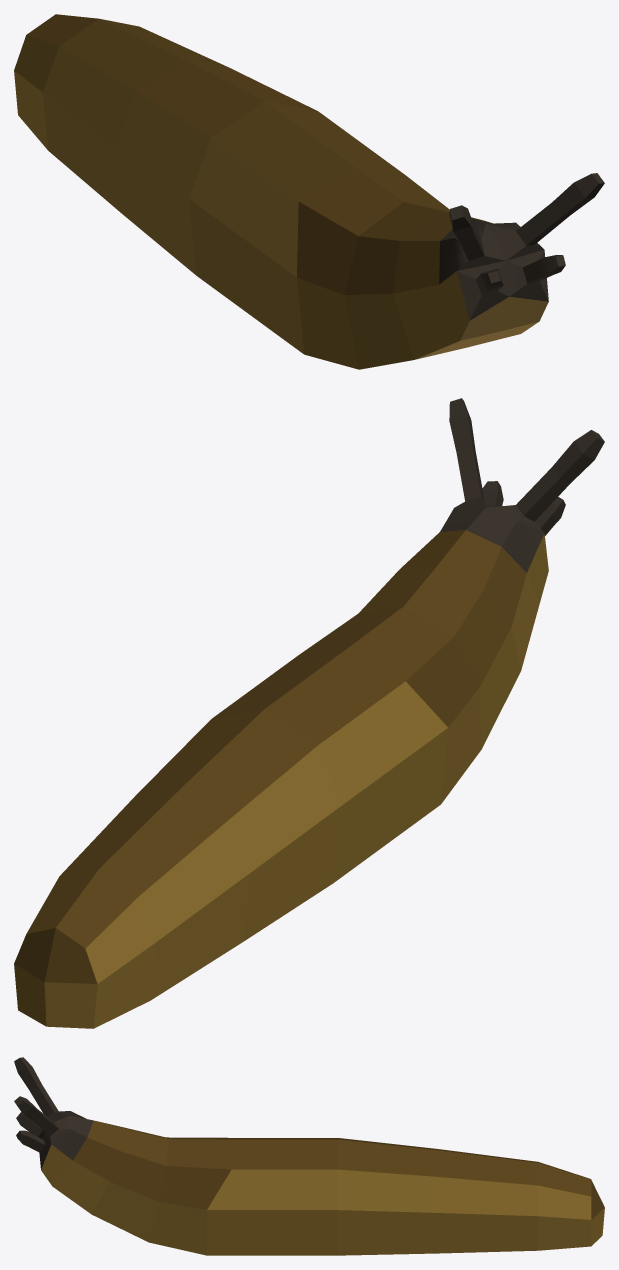
The model's file is Mesh_Slug.obj.
3 renders of one model, top to bottom at view 1: azimuth 30°, elevation 25°; view 2: azimuth 150°, elevation 25°; view 3: azimuth 270°, elevation 25°, orthographic. The views are drawn at different scales.
Visible parts, largest first — view 1: Geo_Slug; view 2: Geo_Slug; view 3: Geo_Slug.
Part boxes in pixels (x1,y1,x2,y2): Geo_Slug: (14,14,604,369); Geo_Slug: (14,398,604,1028); Geo_Slug: (14,1057,604,1255).
Size of the model in its own units: 13.27 by 21.77 by 73.32.
1 material, 1 textured.
